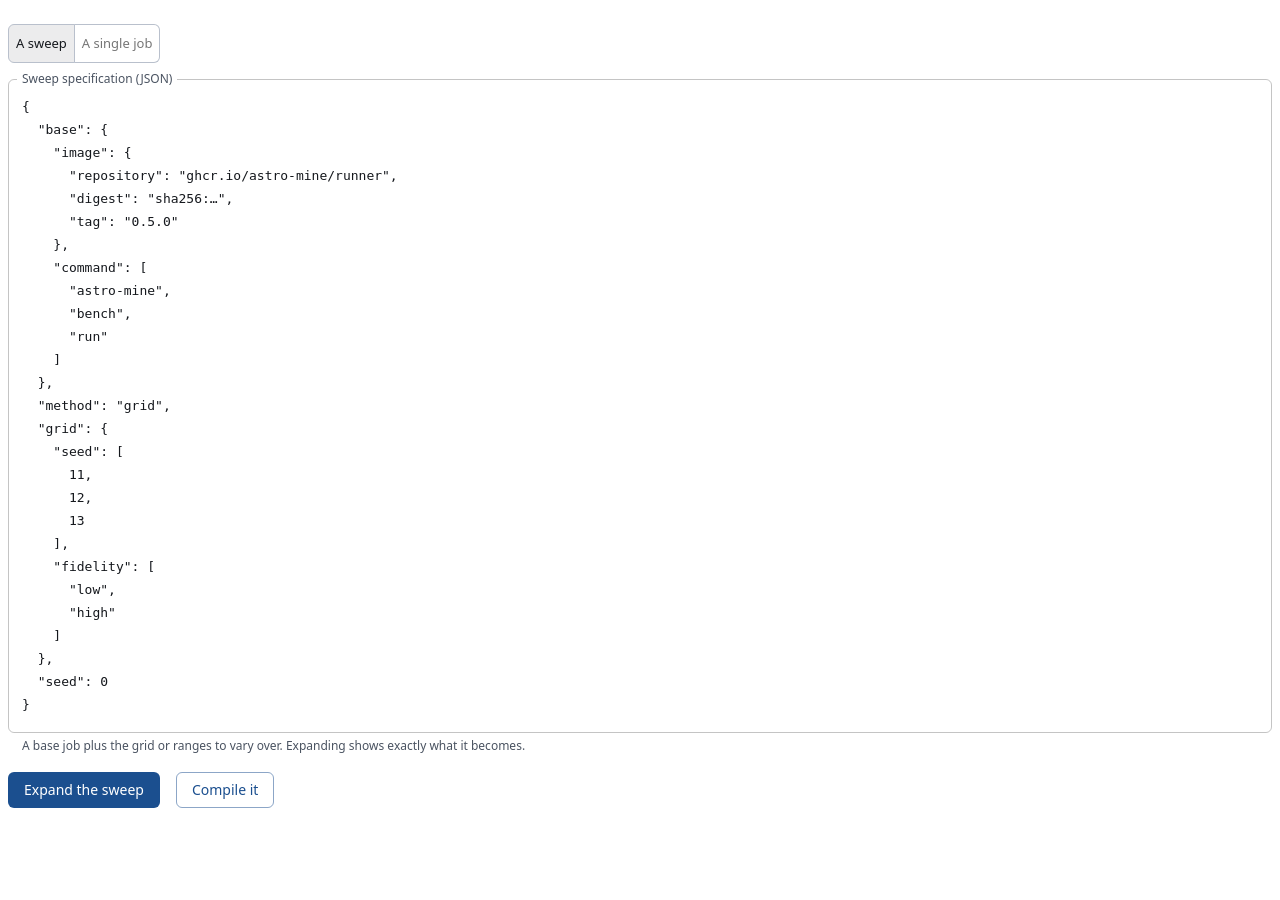
expanding a sweep › shows the expansion, counted plainly
Click the button "Expand the sweep": (84, 790) x1=8 y1=772 x2=160 y2=808
(page scrolled)
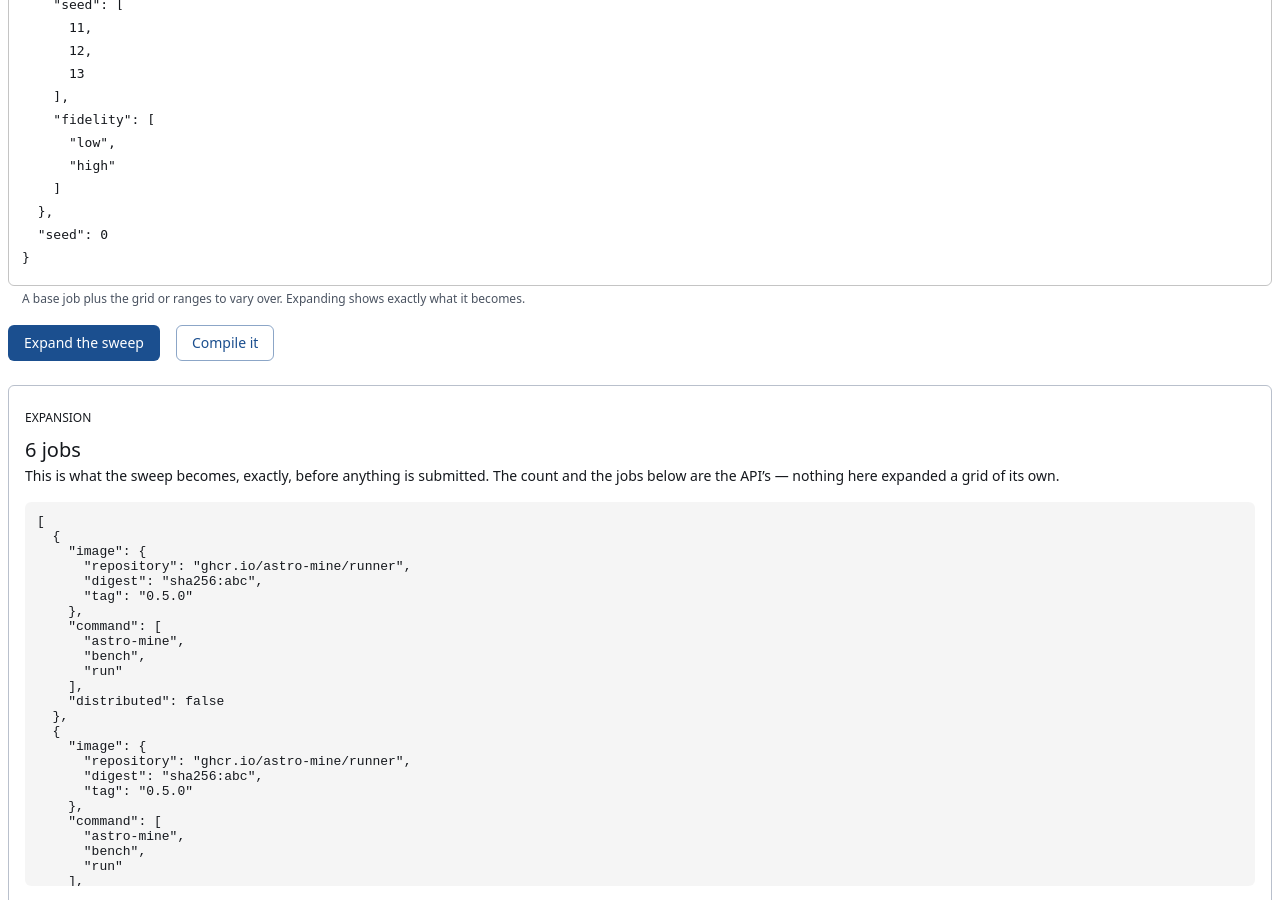
Check: the heading "Expansion" is shown, box x1=25 y1=409 x2=91 y2=426
Check: the text "6 jobs" is shown, box x1=25 y1=436 x2=81 y2=463
